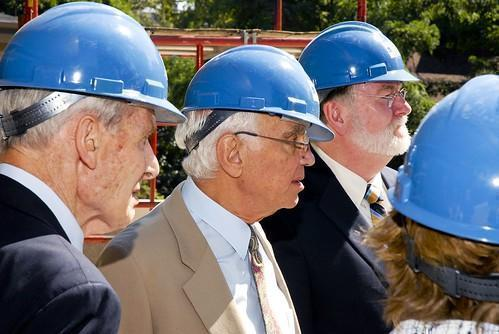helmet: (0, 2, 179, 115), (406, 72, 498, 249), (182, 41, 320, 114), (300, 17, 417, 87)
no-vest: (115, 188, 286, 334), (299, 144, 414, 330), (0, 160, 101, 334)
